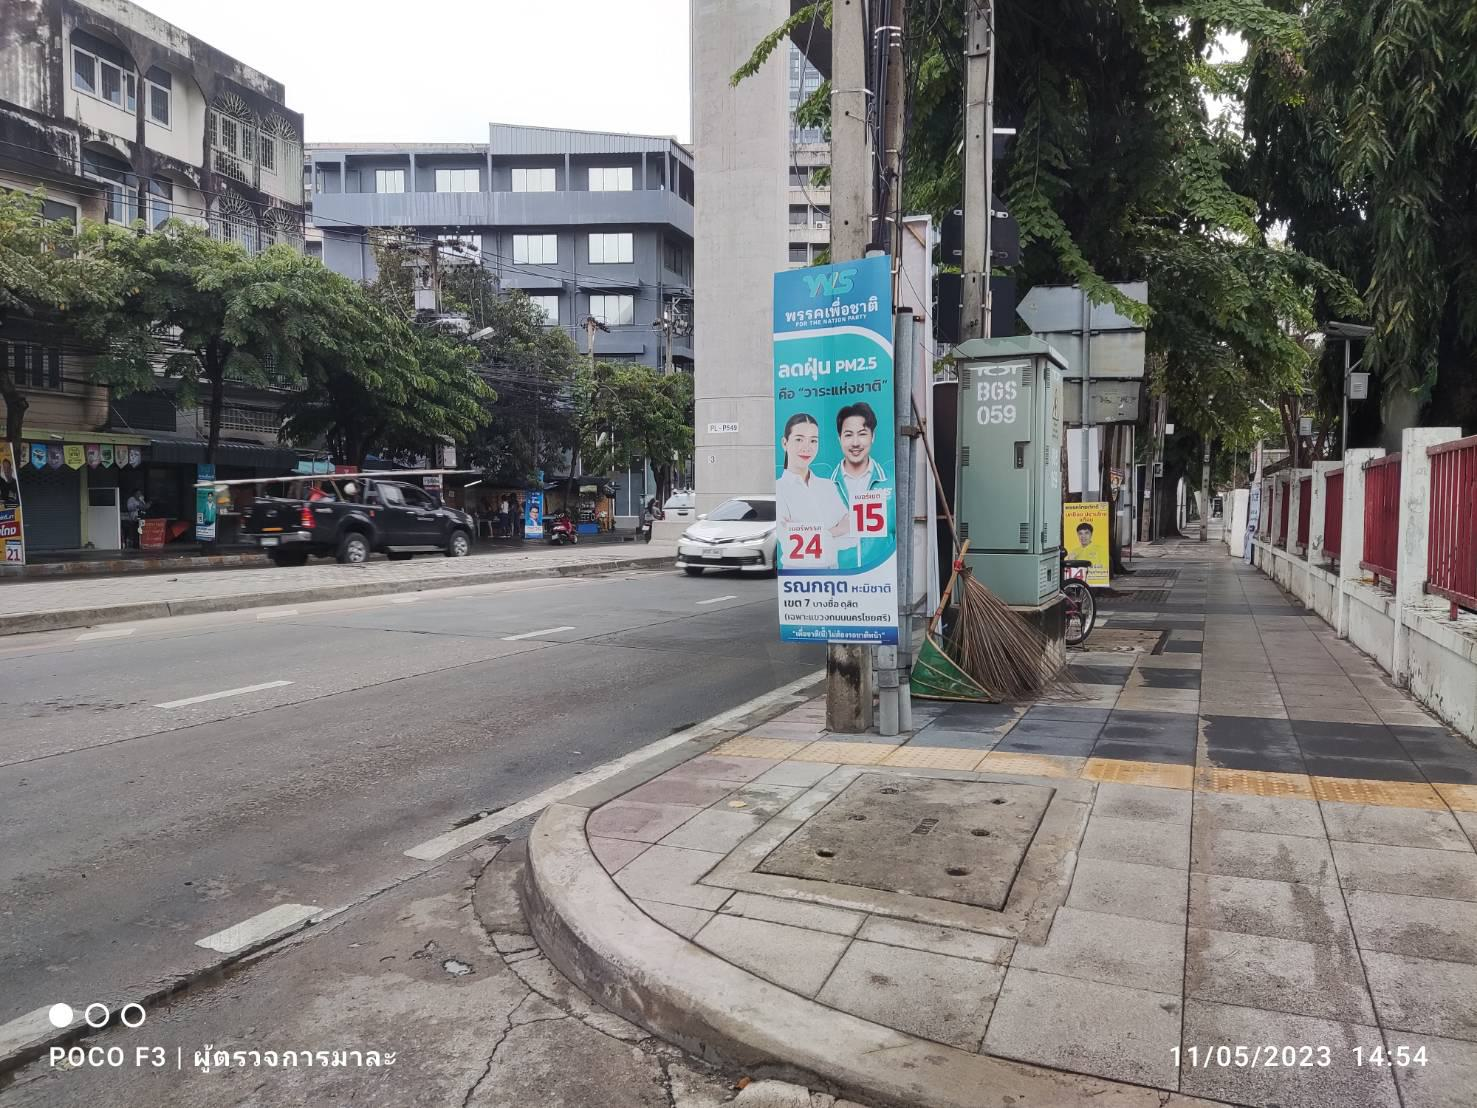Banner: (771, 250, 915, 655)
